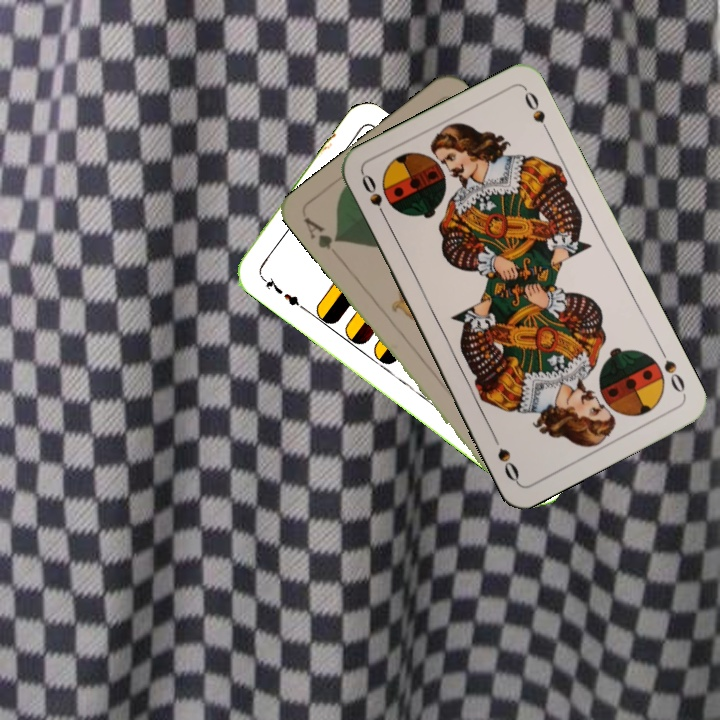E7: (256, 271, 307, 312)
GA: (299, 212, 343, 253)
SO: (357, 170, 391, 226), (655, 343, 688, 396)
